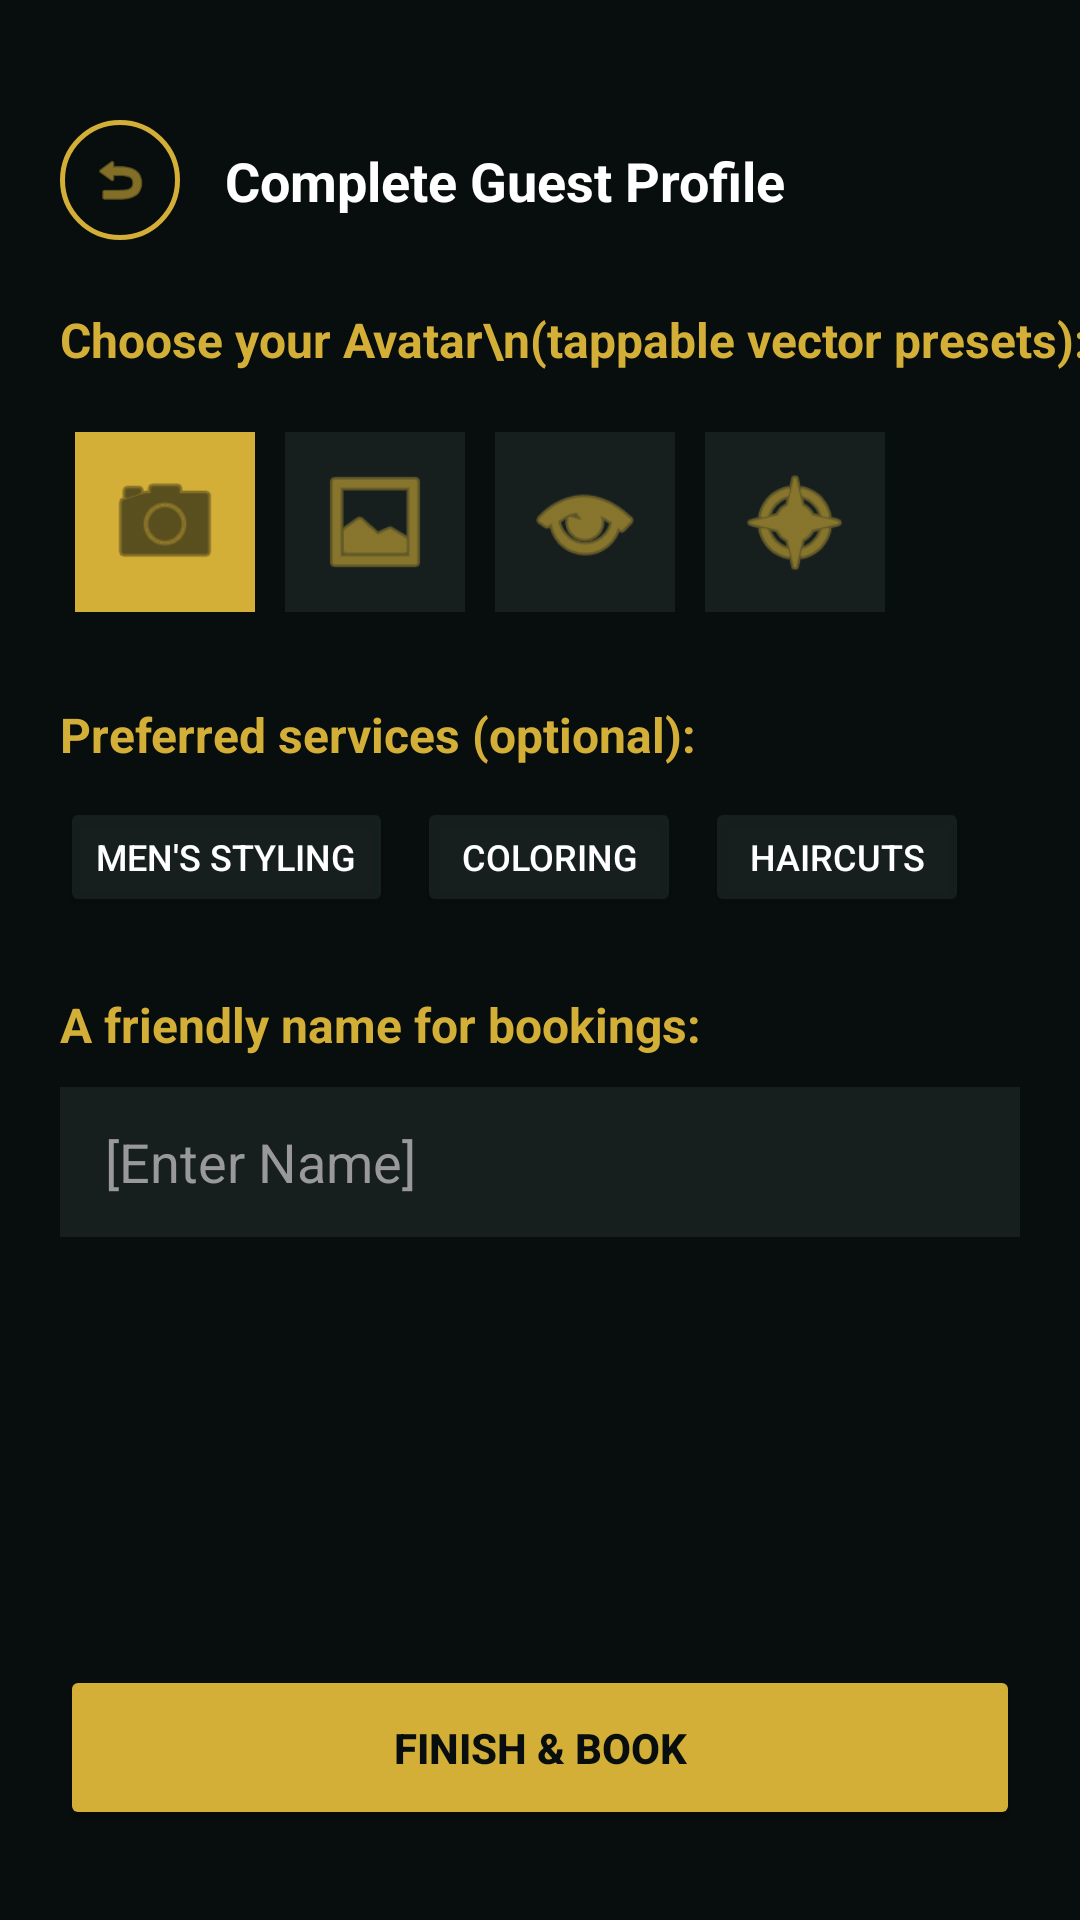

Icons on this 1080 x 1920 Android screen, each with the point to tap as [x,y]:
camera: [165,522]
compass: [795,522]
gallery: [375,522]
revert: [120,180]
view: [585,525]
